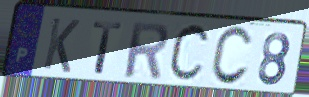8: (257, 31, 293, 87)
C: (165, 21, 213, 86), (207, 24, 254, 89)
K: (41, 16, 82, 76)
R: (122, 20, 170, 81)
T: (91, 20, 125, 76)
